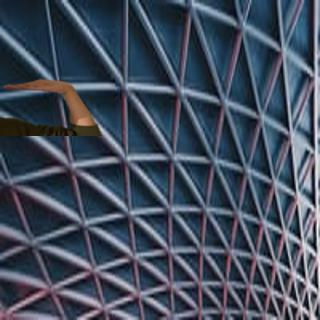WAIT: (1, 74, 69, 96)
